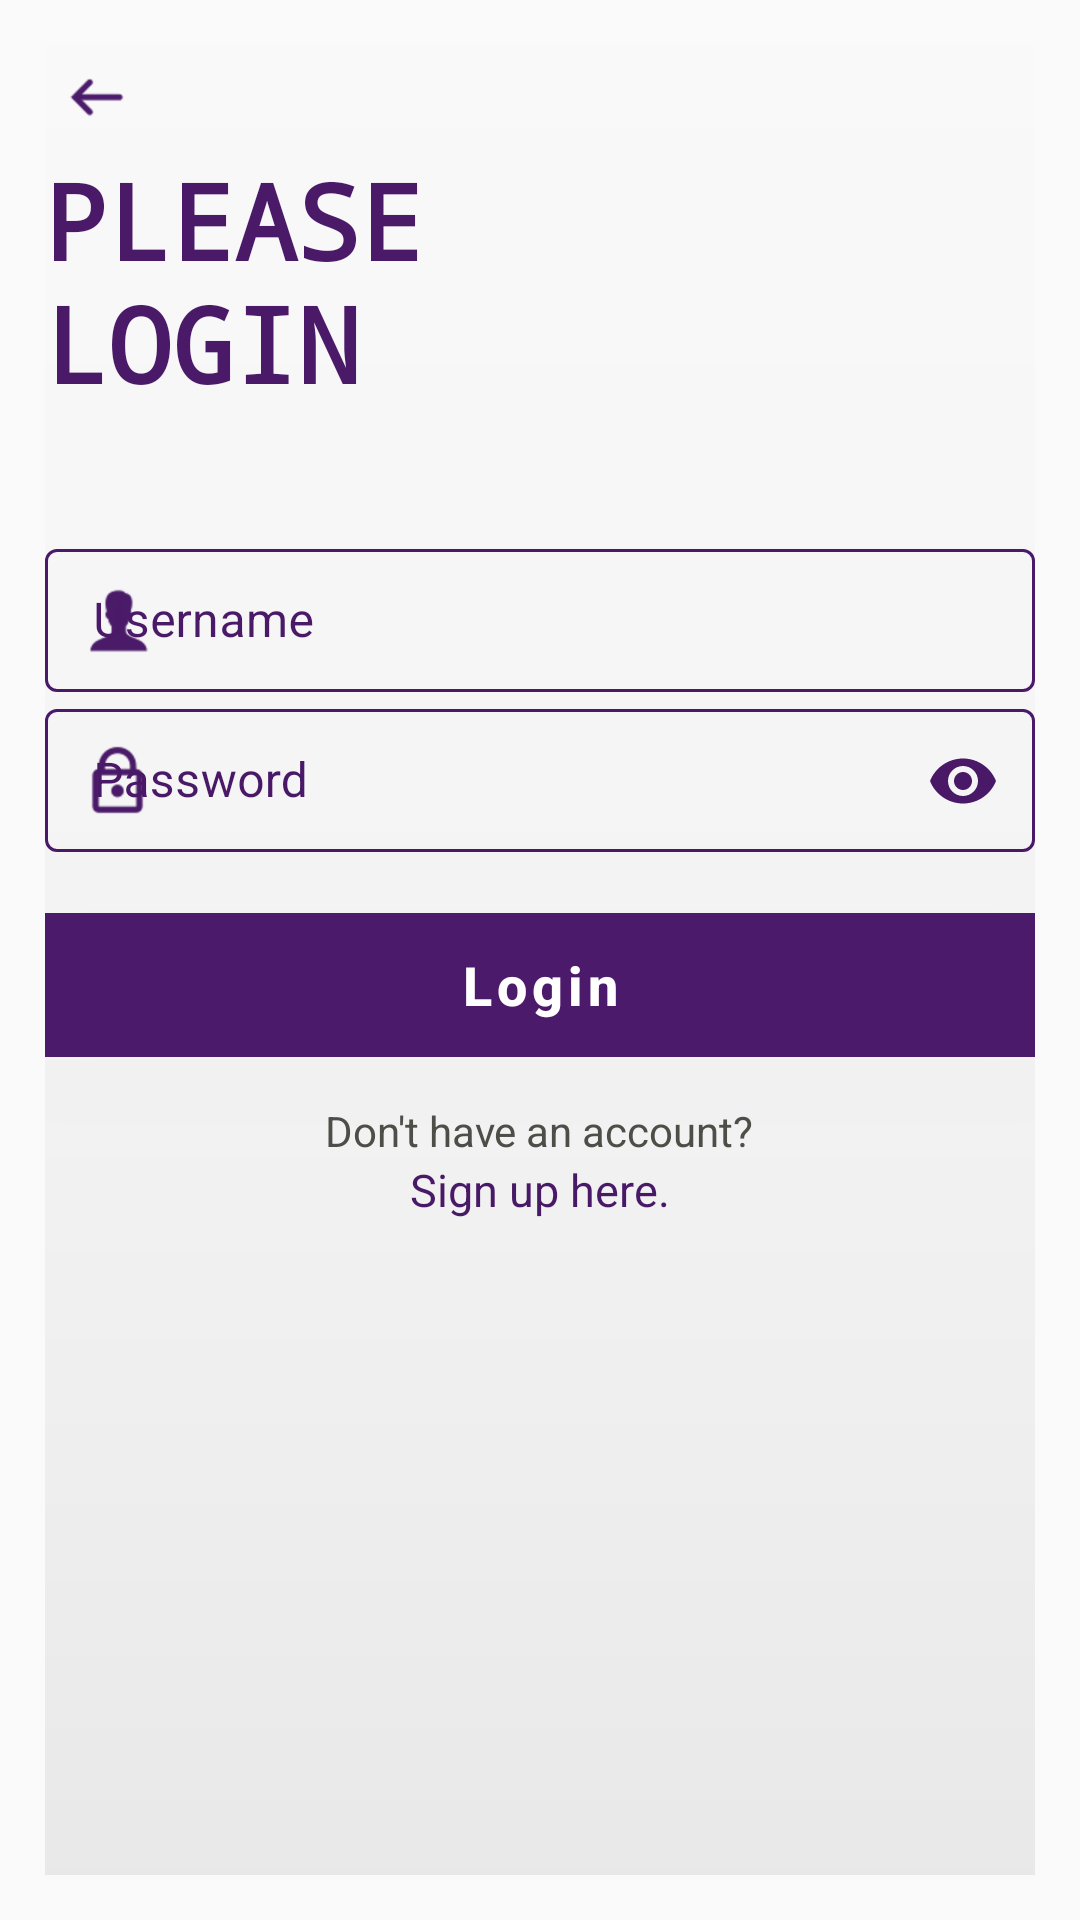

Screen size 1080*1920. Icon name, then its center in pixels as [x,y]:
left: [96,97]
